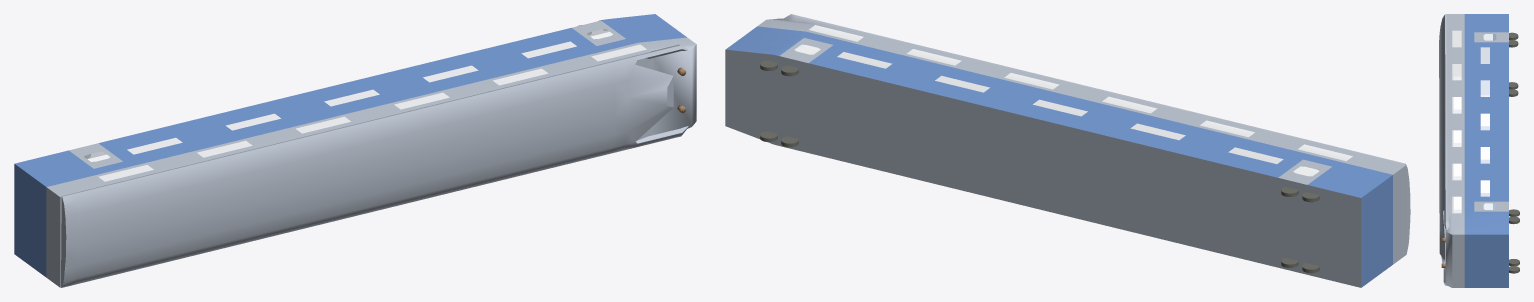
Rendered from asset5.glb.
3 views of the same model, side by side, from view 1: azimuth 30°, elevation 25°; view 2: azimuth 150°, elevation 25°; view 3: azimuth 270°, elevation 25° (orthographic). The views are drawn at different scales.
Parts seen in each view (by area): view 1: Cylinder2_sep22, Cylinder2_sep19, Cylinder2_sep20; view 2: Cylinder2_sep19, Cylinder2_sep22, Cylinder2_sep20; view 3: Cylinder2_sep19, Cylinder2_sep22, Cylinder2_sep20, Cylinder2_sep14, Cylinder2_sep18, Cylinder2_sep13, Cylinder2_sep17, Cylinder2_sep21, Cylinder2_sep16, Cylinder2_sep15, Cylinder2.
Boxes of the visible parts, x1,y1,x2,y2 form: Cylinder2_sep22: [61, 44, 688, 287]; Cylinder2_sep19: [14, 14, 696, 287]; Cylinder2_sep20: [88, 32, 646, 181]; Cylinder2_sep19: [725, 18, 1406, 287]; Cylinder2_sep22: [782, 14, 1410, 253]; Cylinder2_sep20: [794, 25, 1352, 176]; Cylinder2_sep19: [1445, 14, 1508, 287]; Cylinder2_sep22: [1439, 14, 1453, 285]; Cylinder2_sep20: [1452, 30, 1492, 213]; Cylinder2_sep14: [1509, 216, 1519, 224]; Cylinder2_sep18: [1509, 209, 1519, 216]; Cylinder2_sep13: [1509, 266, 1519, 273]; Cylinder2_sep17: [1509, 259, 1519, 265]; Cylinder2_sep21: [1509, 82, 1518, 89]; Cylinder2_sep16: [1509, 40, 1518, 47]; Cylinder2_sep15: [1509, 89, 1518, 96]; Cylinder2: [1509, 32, 1518, 39].
Size of the model in its own units: 1 by 0.1366 by 0.1581.
